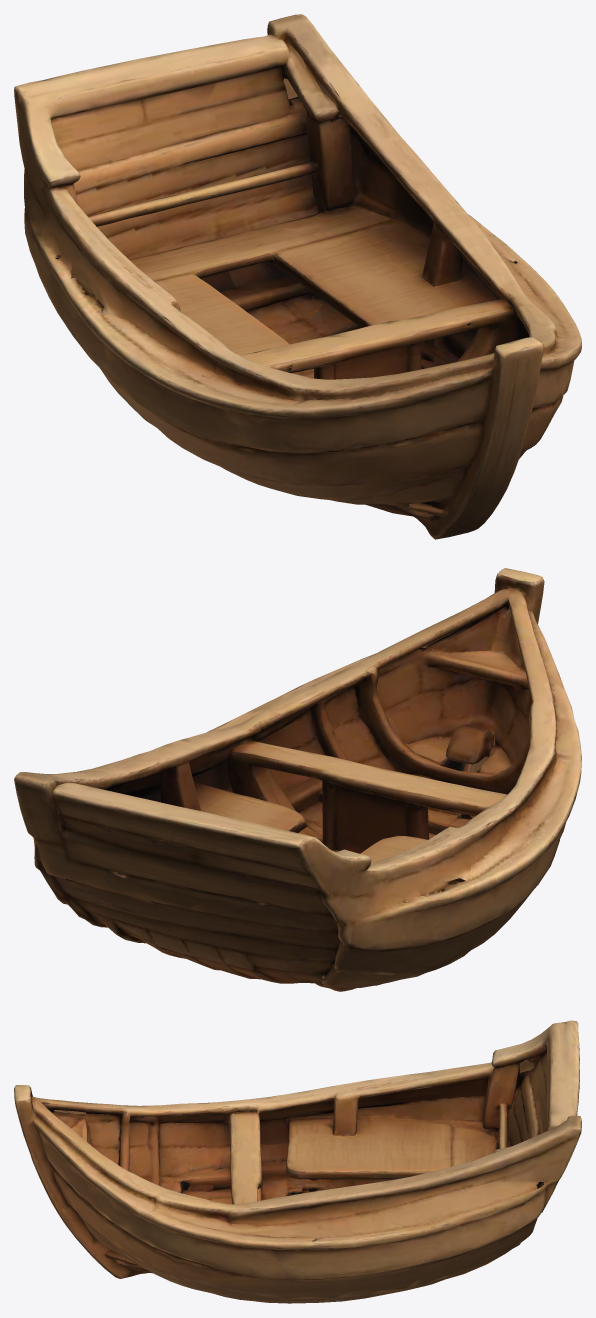
File: fishing-boat.glb
3 renders of one model, top to bottom at view 1: azimuth 30°, elevation 25°; view 2: azimuth 150°, elevation 25°; view 3: azimuth 270°, elevation 25°, orthographic. The views are drawn at different scales.
Visible parts, largest first — view 1: geometry_0; view 2: geometry_0; view 3: geometry_0.
Part boxes in pixels (left/top/right/bottom): geometry_0: left=14, top=14, right=581, bottom=539; geometry_0: left=14, top=568, right=581, bottom=991; geometry_0: left=14, top=1020, right=581, bottom=1303.
Bounding box in the file's own units: 6.28 × 4 × 10.21.
1 material, 1 textured.
